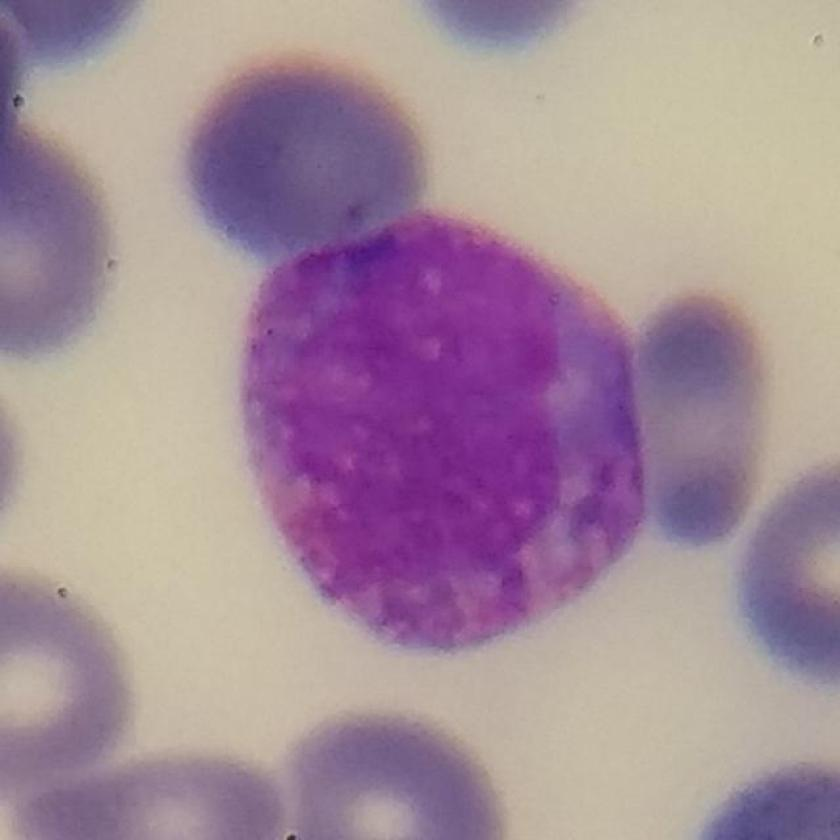basophil: (236, 201, 657, 661)
